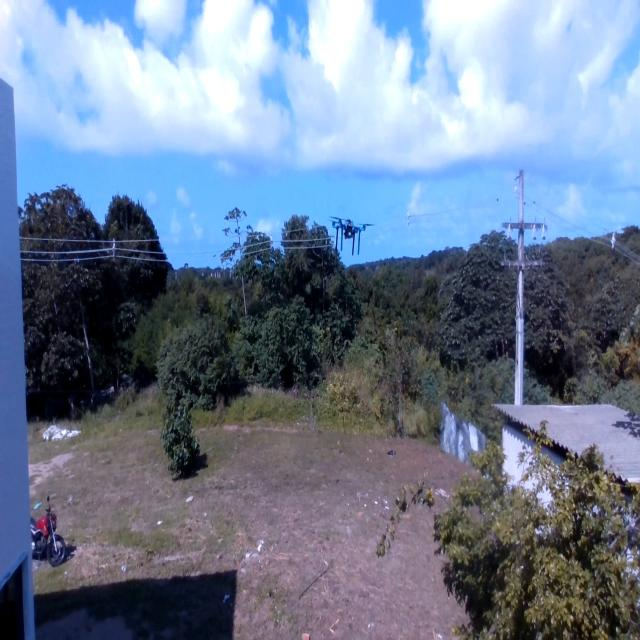-uav-: (322, 194, 378, 267)
